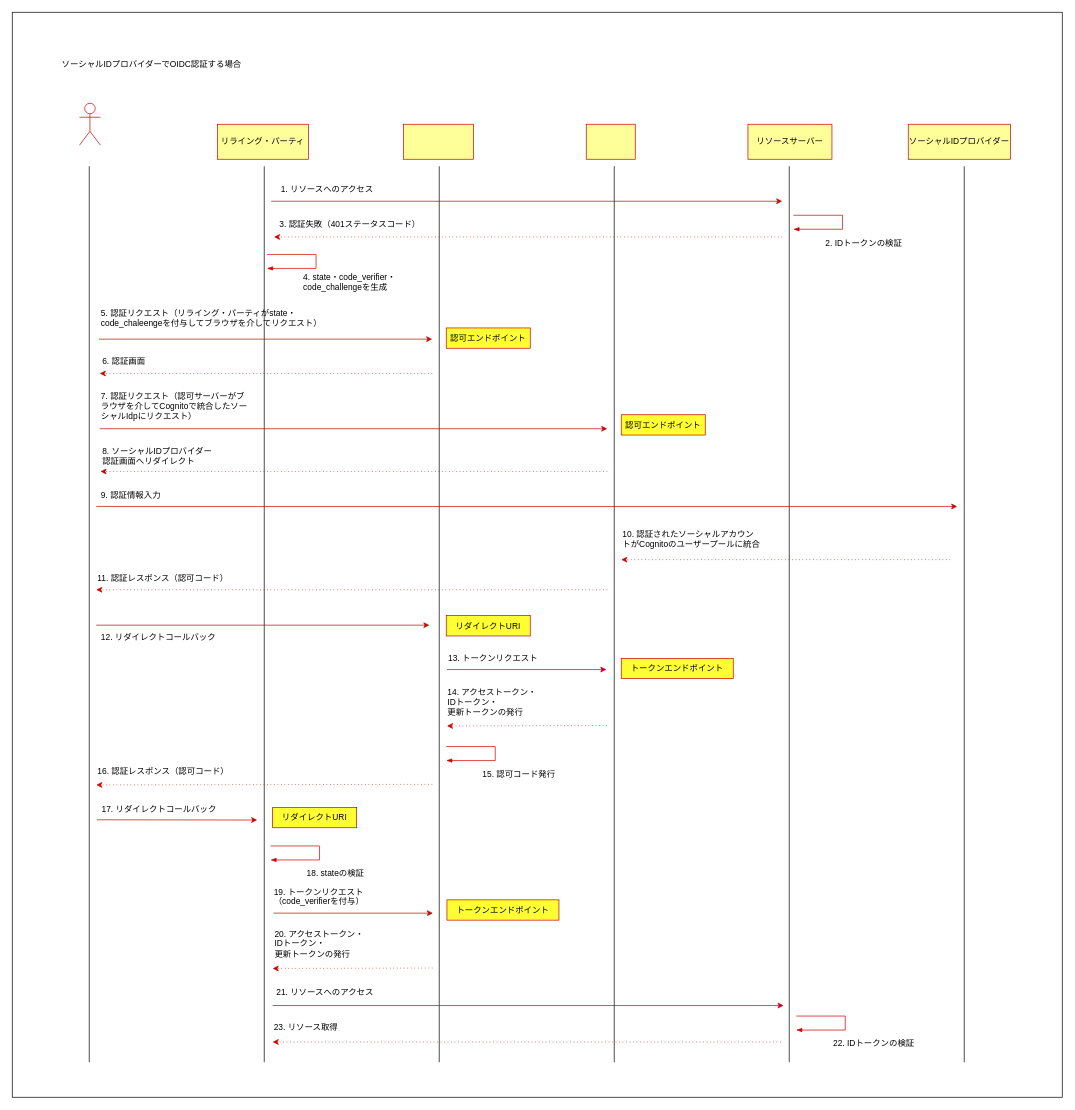
Image size: 1075x1110. Some labels were removed from this diagram. The centre of each missing label's shape, as x and y in pixels:
Cognito: pixel 610 141
リソースオーナー: pixel 89 124
認可サーバー: pixel 438 141
